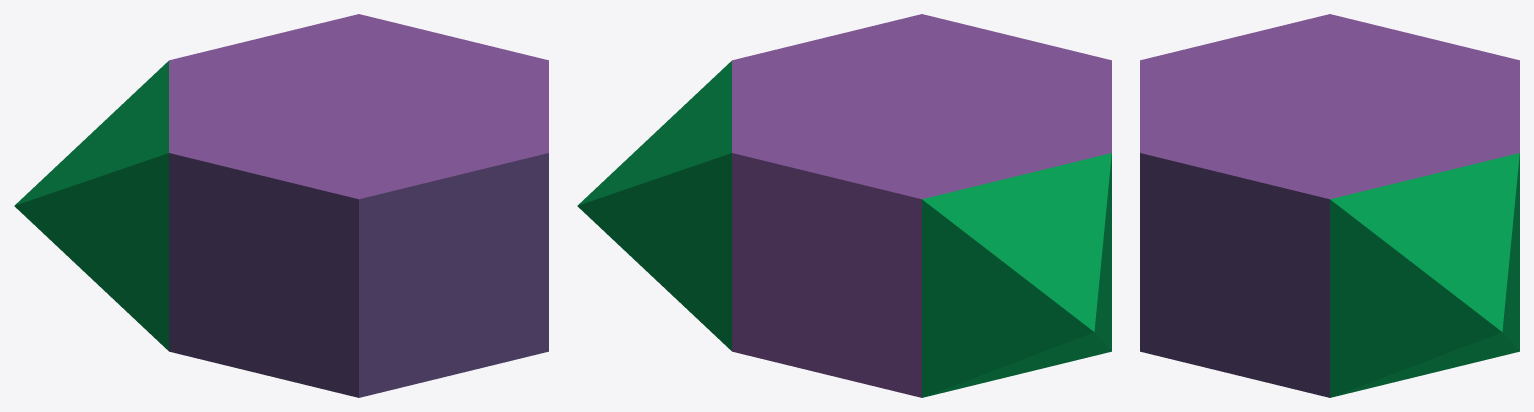
Rendered from J56.PrismaHexagonalMetabiaumentado.gltf.
The picture shows the model from 3 angles, left to right: view 1: azimuth 30°, elevation 25°; view 2: azimuth 150°, elevation 25°; view 3: azimuth 270°, elevation 25°; orthographic projection.
Parts seen in each view (by area): view 1: J56.PrismaHexagonalMetabiaumentado; view 2: J56.PrismaHexagonalMetabiaumentado; view 3: J56.PrismaHexagonalMetabiaumentado.
Part boxes in pixels (box(x1,y1,x2,y2)): J56.PrismaHexagonalMetabiaumentado: box(14, 14, 548, 397); J56.PrismaHexagonalMetabiaumentado: box(577, 14, 1111, 397); J56.PrismaHexagonalMetabiaumentado: box(1140, 14, 1519, 397).
Bounding box in the file's own units: 17.32 × 6.36 × 11.01.
